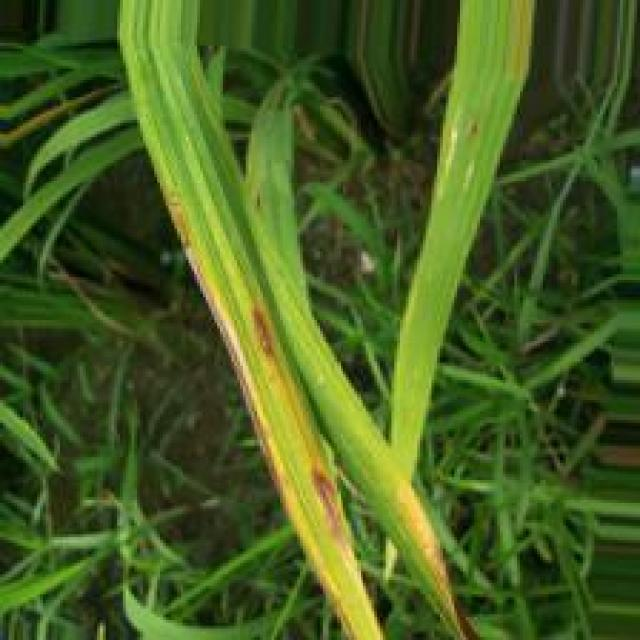Narrow_Brown_Leaf_Spot: (167, 185, 394, 640), (397, 473, 484, 640)
